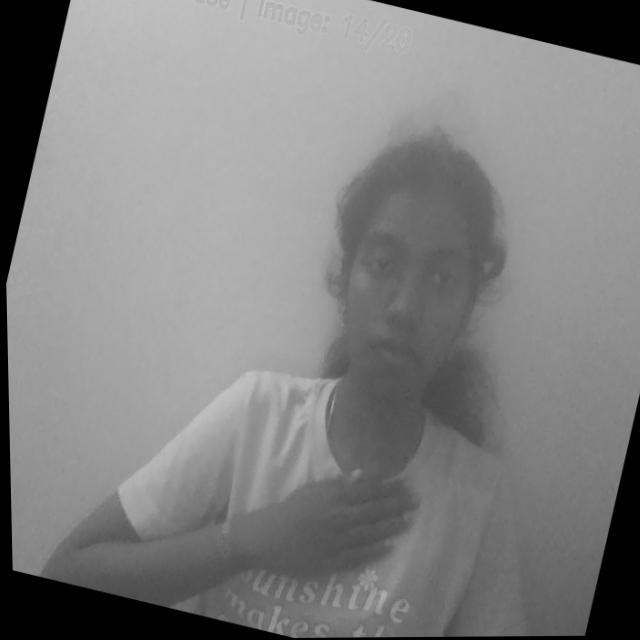Please: (240, 447, 428, 609)
